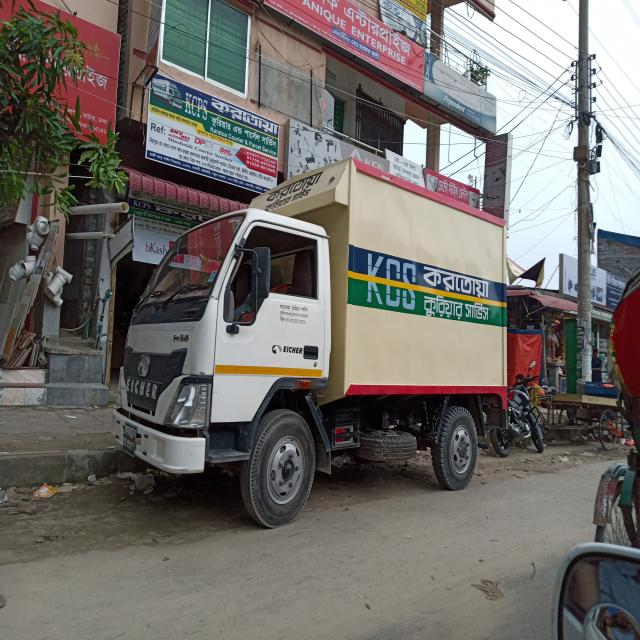motorbike: (494, 368, 555, 461)
pickup-van: (119, 145, 516, 527)
